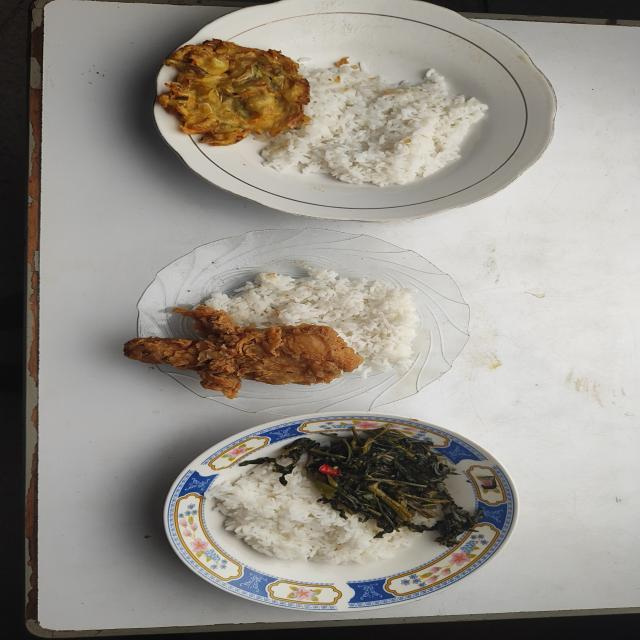nasi_putih: (260, 58, 488, 187), (204, 269, 420, 375), (211, 456, 417, 566)
tumis_kangkung: (258, 423, 472, 546)
